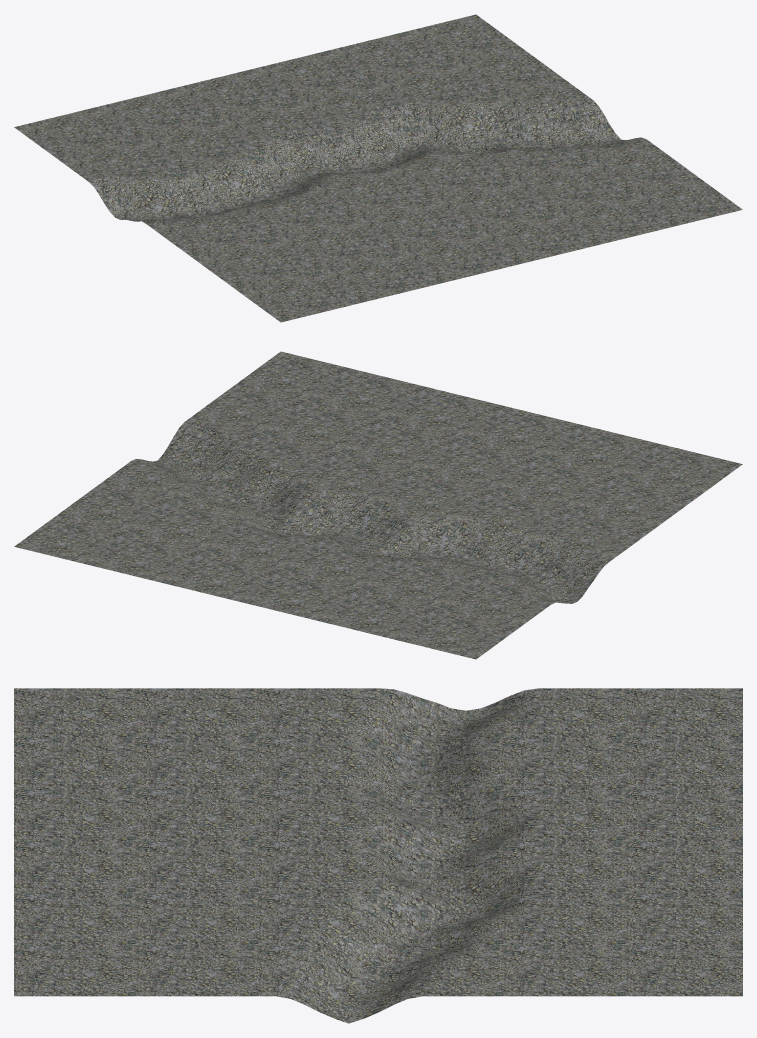
The model's file is seabed.FBX.
The picture shows the model from 3 angles, top to bottom: view 1: azimuth 30°, elevation 25°; view 2: azimuth 150°, elevation 25°; view 3: azimuth 270°, elevation 25°; orthographic projection. The views are drawn at different scales.
Visible parts, largest first — view 1: Plane001; view 2: Plane001; view 3: Plane001.
Part boxes in pixels (x1,y1,x2,y2): Plane001: (14,14,742,322); Plane001: (14,351,742,659); Plane001: (14,688,742,1023).
Bounding box in the file's own units: 10014 × 429 × 10000.
Materials: 1 (1 with a texture image).
